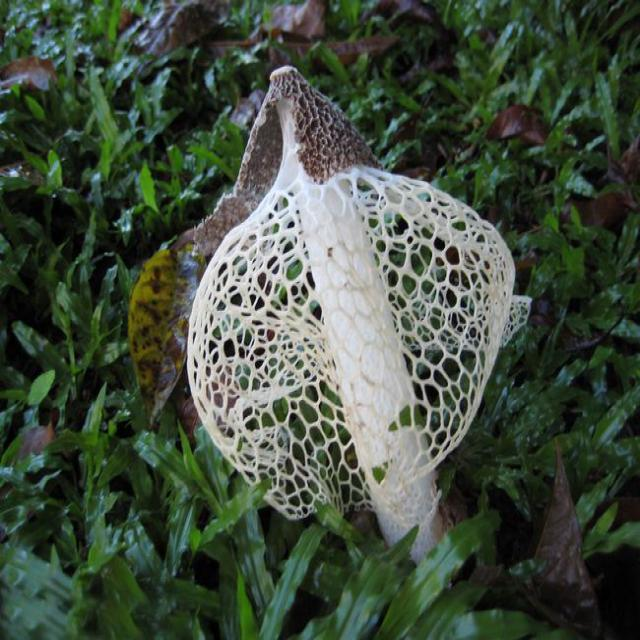Dictyophora indusiate: (184, 63, 515, 547)
